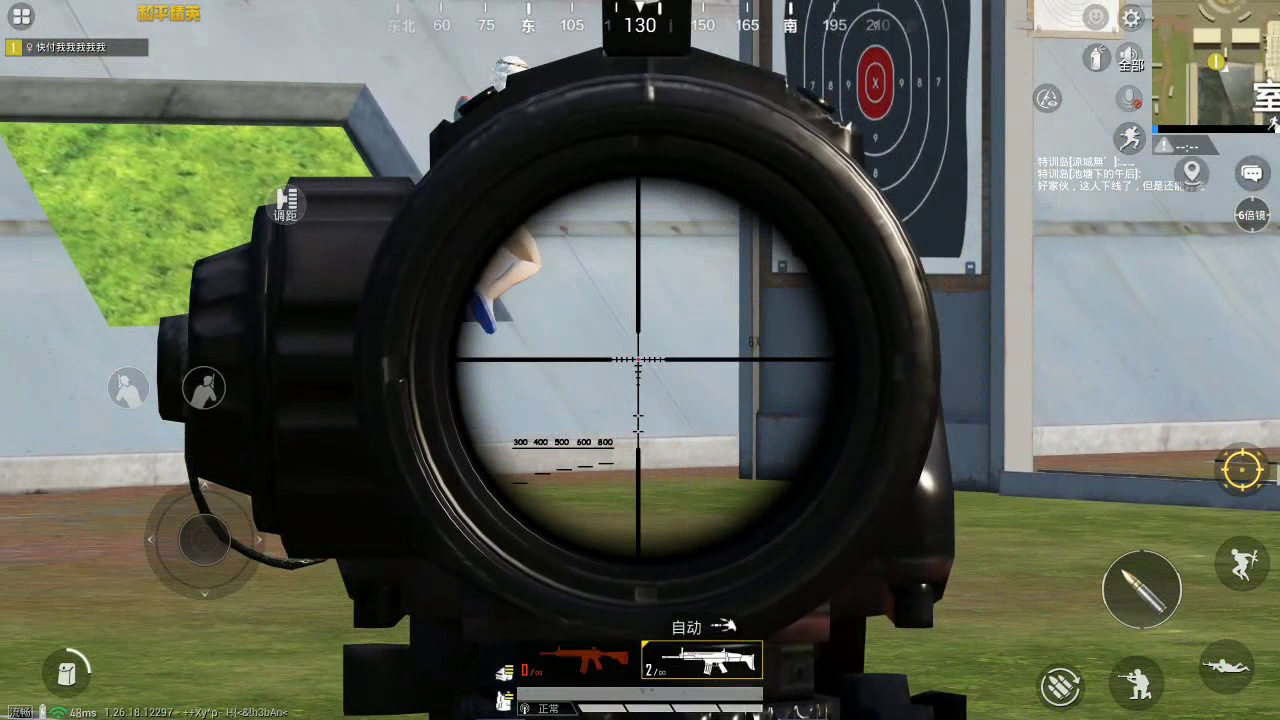enemy: (475, 224, 544, 333)
